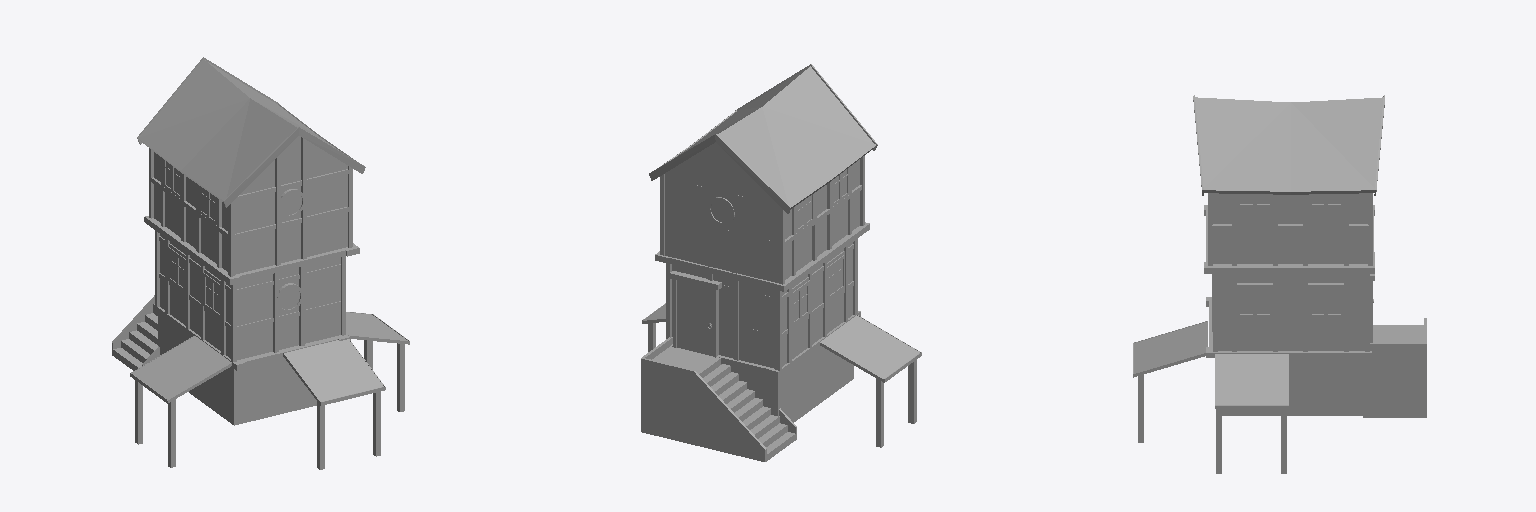
Rendered from CRM4U50PXWUDEH4OBFK9RRTBJ.obj.
3 views of the same model, side by side, from view 1: azimuth 30°, elevation 25°; view 2: azimuth 150°, elevation 25°; view 3: azimuth 270°, elevation 25° (orthographic).
Parts seen in each view (by area): view 1: Object_Plaster.jpg, Object_Wood.jpg, Object_RoofTiles.jpg, Object_WindowsBlue2.jpg; view 2: Object_Plaster.jpg, Object_Wood.jpg, Object_RoofTiles.jpg, Object_DoorType1_1.jpg, Object_WindowsBlue2.jpg; view 3: Object_Plaster.jpg, Object_RoofTiles.jpg, Object_Wood.jpg, Object_WindowsBlue2.jpg.
Boxes of the visible parts, box(x1,y1,x2,y2) form: Object_Plaster.jpg: box(112, 136, 347, 425); Object_Wood.jpg: box(130, 57, 409, 469); Object_RoofTiles.jpg: box(132, 60, 407, 401); Object_WindowsBlue2.jpg: box(166, 161, 301, 313); Object_Plaster.jpg: box(641, 142, 859, 461); Object_Wood.jpg: box(642, 64, 921, 447); Object_RoofTiles.jpg: box(644, 66, 919, 378); Object_DoorType1_1.jpg: box(677, 280, 712, 355); Object_WindowsBlue2.jpg: box(711, 169, 846, 320); Object_Plaster.jpg: box(1213, 193, 1426, 417); Object_RoofTiles.jpg: box(1134, 97, 1382, 404); Object_Wood.jpg: box(1133, 95, 1384, 473); Object_WindowsBlue2.jpg: box(1240, 196, 1340, 313).
Bounding box in the file's own units: 1.98 × 2.5 × 2.07.